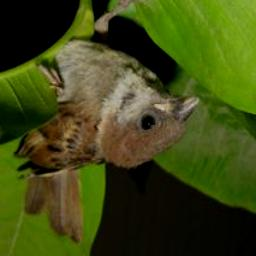Sparrow: (11, 0, 204, 246)
